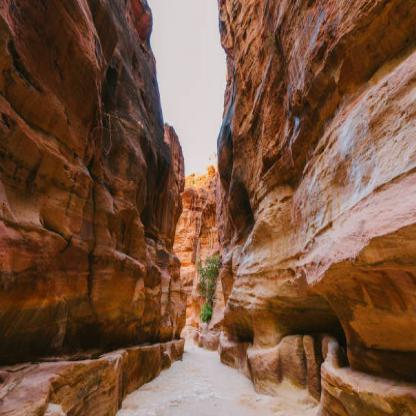Sedimentary_Sandstone: (301, 38, 415, 415), (0, 1, 92, 339), (97, 0, 149, 327), (227, 167, 298, 344), (227, 3, 283, 147), (158, 117, 186, 338)
